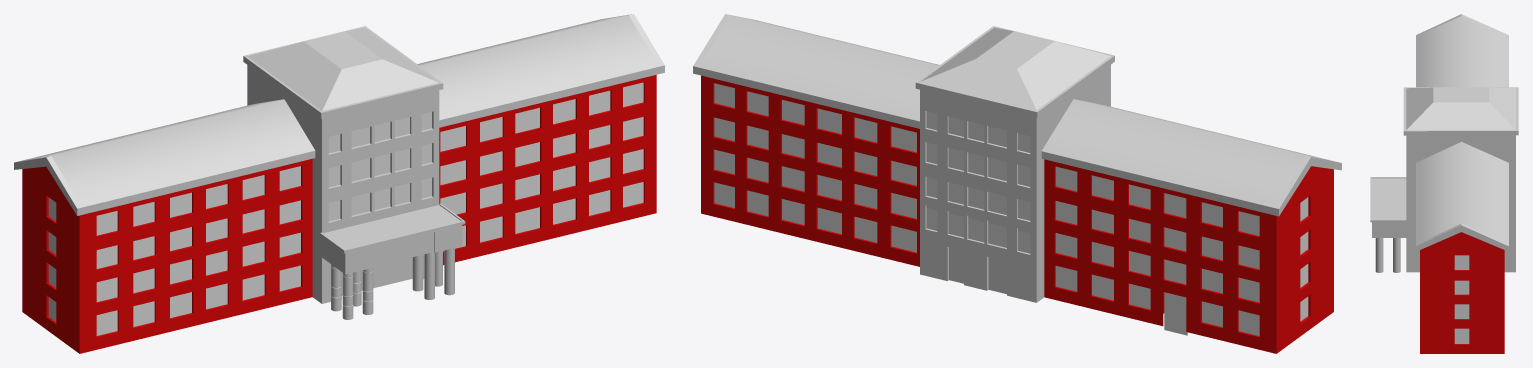
The model's file is JianZhu01.fbx.
3 renders of one model, left to right at view 1: azimuth 30°, elevation 25°; view 2: azimuth 150°, elevation 25°; view 3: azimuth 270°, elevation 25°, orthographic. The views are drawn at different scales.
Visible parts, largest first — view 1: JianZhu01_12, JianZhu01, polySurface1929, polySurface1917, polySurface1921, polySurface1930; view 2: JianZhu01_12, JianZhu01, polySurface1929, polySurface1917; view 3: JianZhu01_12, polySurface1917, polySurface1929, polySurface1921, JianZhu01.
Part boxes in pixels (x1,y1,x2,y2): JianZhu01_12: (14, 14, 664, 353); JianZhu01: (48, 82, 643, 335); polySurface1929: (247, 65, 462, 303); polySurface1917: (243, 26, 443, 118); polySurface1921: (320, 203, 465, 253); polySurface1930: (342, 257, 412, 295); JianZhu01_12: (693, 14, 1341, 353); JianZhu01: (714, 83, 1308, 335); polySurface1929: (920, 65, 1110, 302); polySurface1917: (915, 26, 1114, 118); JianZhu01_12: (1416, 14, 1508, 353); polySurface1917: (1403, 87, 1518, 135); polySurface1929: (1372, 135, 1515, 272); polySurface1921: (1370, 177, 1406, 222); JianZhu01: (1375, 238, 1469, 343).
Size of the model in its own units: 193 by 67.94 by 57.13.
